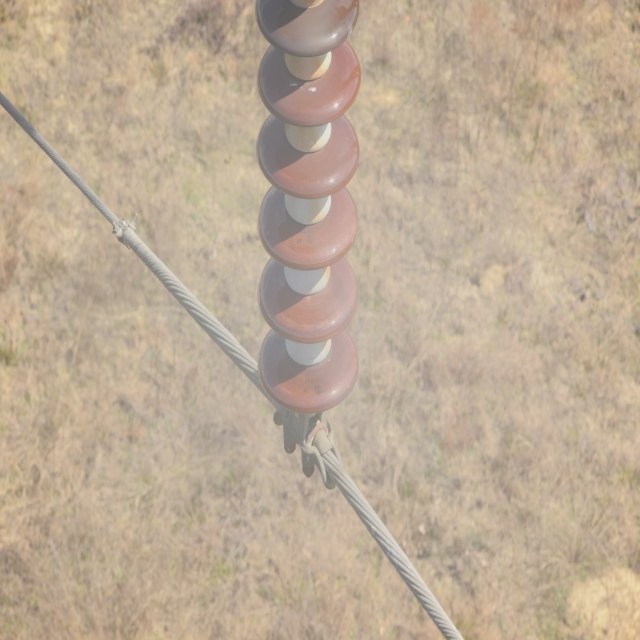insulator: (252, 0, 360, 414)
